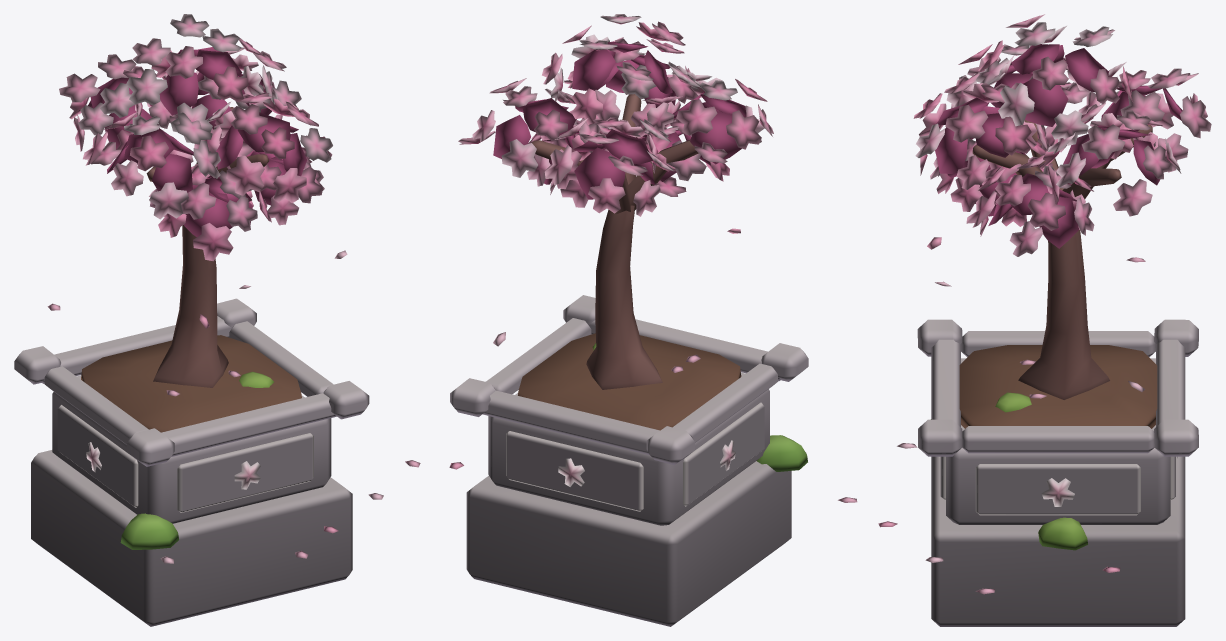
File: sakuraPlanter.glb
The picture shows the model from 3 angles, left to right: view 1: azimuth 30°, elevation 25°; view 2: azimuth 150°, elevation 25°; view 3: azimuth 270°, elevation 25°; orthographic projection. The views are drawn at different scales.
Visible parts, largest first — view 1: sakuraPlanter; view 2: sakuraPlanter; view 3: sakuraPlanter.
Boxes of the visible parts, x1,y1,x2,y2 form: sakuraPlanter: (14, 14, 420, 626); sakuraPlanter: (449, 14, 808, 626); sakuraPlanter: (838, 14, 1211, 626).
Bounding box in the file's own units: 1.29 × 2.08 × 1.27.
